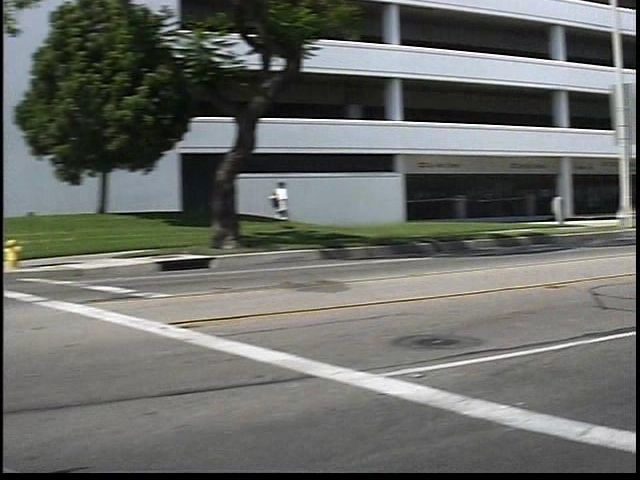person: (286, 177, 313, 239)
